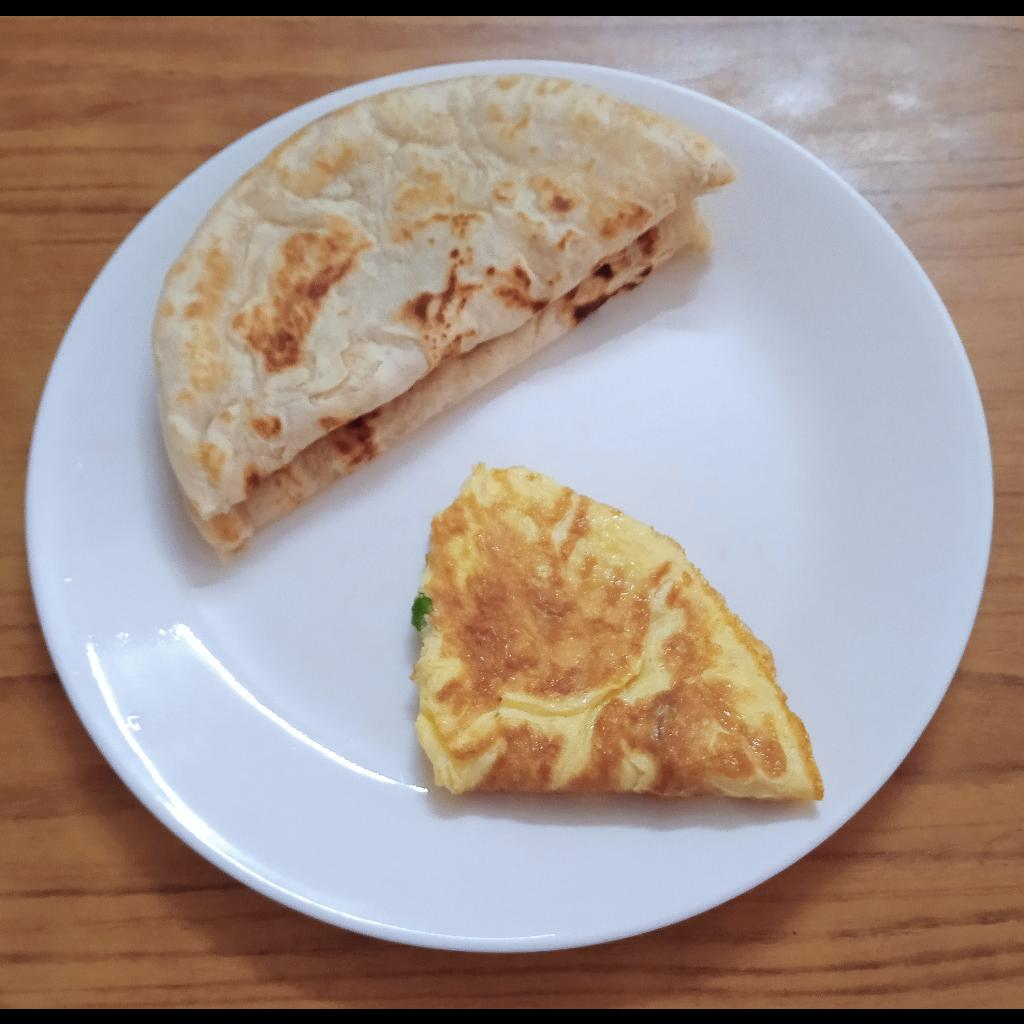egg-poached: (409, 463, 826, 802)
ruti: (153, 74, 742, 561)
